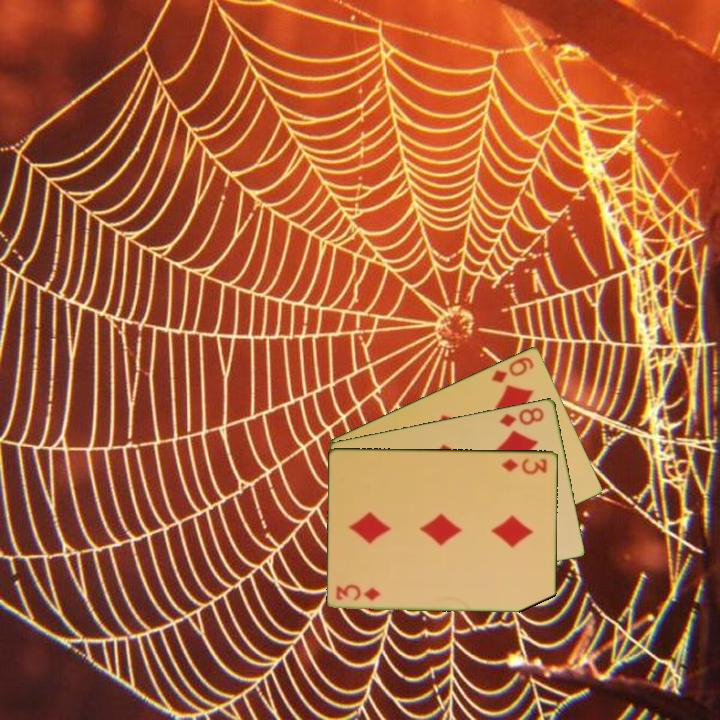3d: (498, 454, 550, 476), (333, 583, 384, 603)
6d: (488, 353, 537, 385)
8d: (496, 403, 547, 429)
